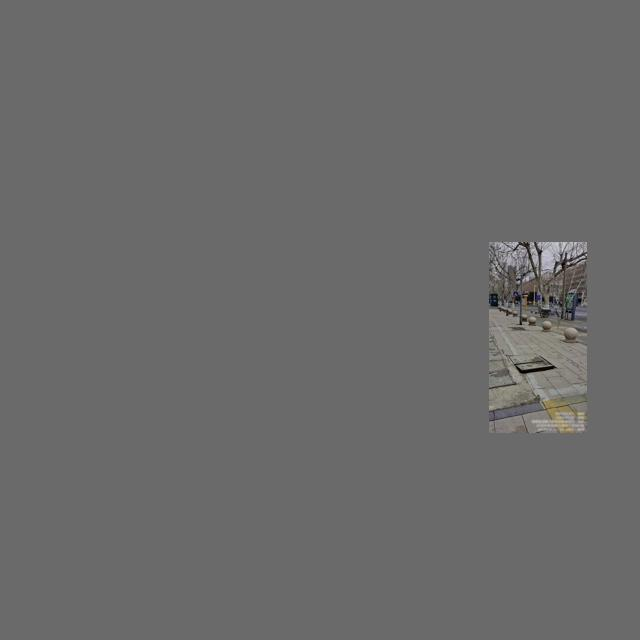uncovered: (514, 345, 557, 375)
